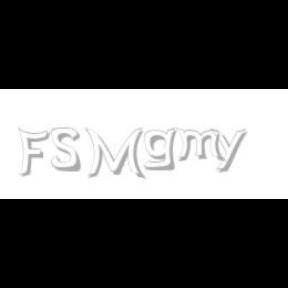F: (17, 128, 49, 178)
M: (84, 128, 144, 180)
S: (50, 128, 82, 172)
g: (144, 128, 180, 171)
m: (174, 128, 226, 162)
y: (210, 128, 250, 172)
